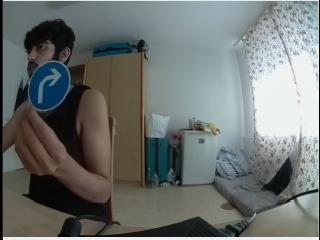right: (27, 62, 68, 112)
